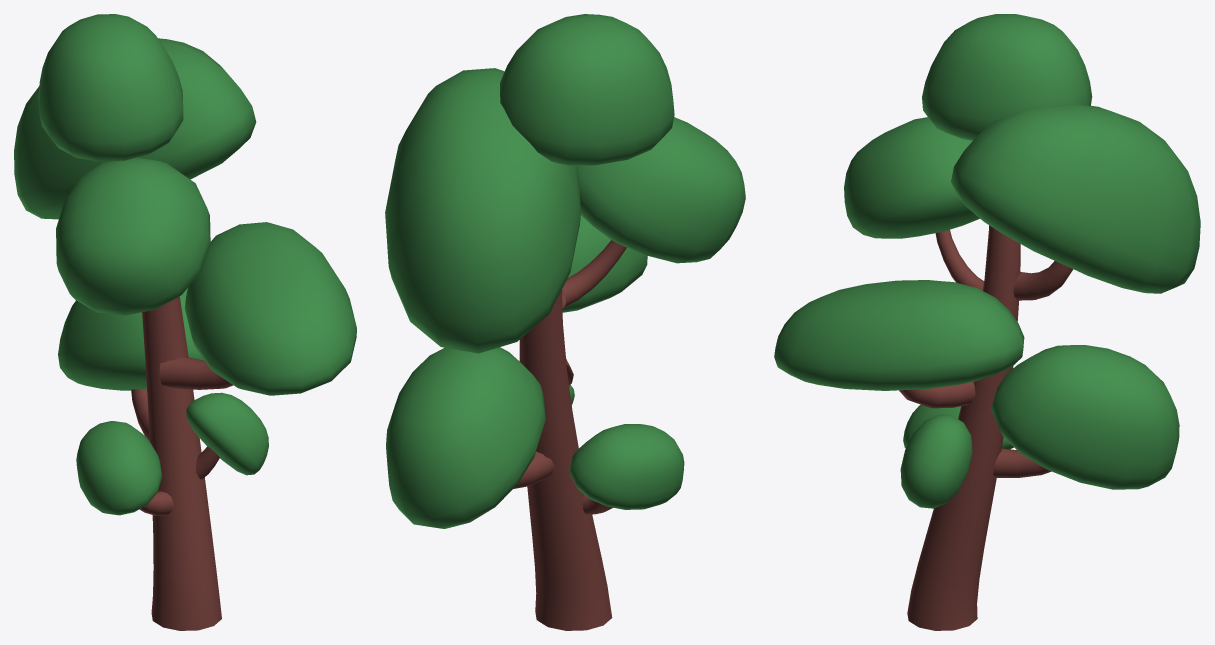
Rendered from tree01 1.fbx.
3 views of the same model, side by side, from view 1: azimuth 30°, elevation 25°; view 2: azimuth 150°, elevation 25°; view 3: azimuth 270°, elevation 25° (orthographic). The views are drawn at different scales.
Parts seen in each view (by area): view 1: Cube.017, Cube.015, Cube.014, BézierCurve.008, Cube.016, Cube.018, Cube.019, Cube.020, BézierCurve.011, BézierCurve.009, BézierCurve.013, BézierCurve.014; view 2: Cube.016, Cube.018, Cube.014, Cube.015, BézierCurve.008, Cube.019, Cube.017, BézierCurve.012, BézierCurve.009; view 3: Cube.016, Cube.017, Cube.018, Cube.014, BézierCurve.008, Cube.015, Cube.020, BézierCurve.010, BézierCurve.011, BézierCurve.012, BézierCurve.009, Cube.019.
Part boxes in pixels (left/top/right/bottom): Cube.017: left=185, top=222, right=356, bottom=395; Cube.015: left=56, top=157, right=210, bottom=315; Cube.014: left=38, top=14, right=183, bottom=161; BézierCurve.008: left=142, top=296, right=221, bottom=630; Cube.016: left=14, top=38, right=256, bottom=219; Cube.018: left=58, top=288, right=204, bottom=390; Cube.019: left=76, top=421, right=162, bottom=515; Cube.020: left=186, top=392, right=268, bottom=475; BézierCurve.011: left=159, top=357, right=233, bottom=389; BézierCurve.009: left=131, top=389, right=149, bottom=440; BézierCurve.013: left=139, top=491, right=173, bottom=515; BézierCurve.014: left=195, top=446, right=219, bottom=479; Cube.016: left=385, top=68, right=580, bottom=353; Cube.018: left=386, top=347, right=545, bottom=528; Cube.014: left=500, top=14, right=674, bottom=165; Cube.015: left=577, top=117, right=745, bottom=263; BézierCurve.008: left=519, top=290, right=612, bottom=630; Cube.019: left=569, top=424, right=684, bottom=509; Cube.017: left=562, top=215, right=647, bottom=312; BézierCurve.012: left=561, top=240, right=626, bottom=308; BézierCurve.009: left=513, top=451, right=554, bottom=488; Cube.016: left=951, top=104, right=1200, bottom=293; Cube.017: left=774, top=280, right=1024, bottom=390; Cube.018: left=991, top=345, right=1179, bottom=489; Cube.014: left=922, top=14, right=1092, bottom=140; BézierCurve.008: left=907, top=225, right=1020, bottom=630; Cube.015: left=844, top=117, right=979, bottom=238; Cube.020: left=900, top=414, right=972, bottom=508; BézierCurve.010: left=1013, top=261, right=1073, bottom=300; BézierCurve.011: left=899, top=382, right=975, bottom=408; BézierCurve.012: left=935, top=229, right=984, bottom=290; BézierCurve.009: left=993, top=448, right=1051, bottom=477; Cube.019: left=903, top=405, right=1013, bottom=449.
Bounding box in the file's own units: 316 × 639 × 430.
